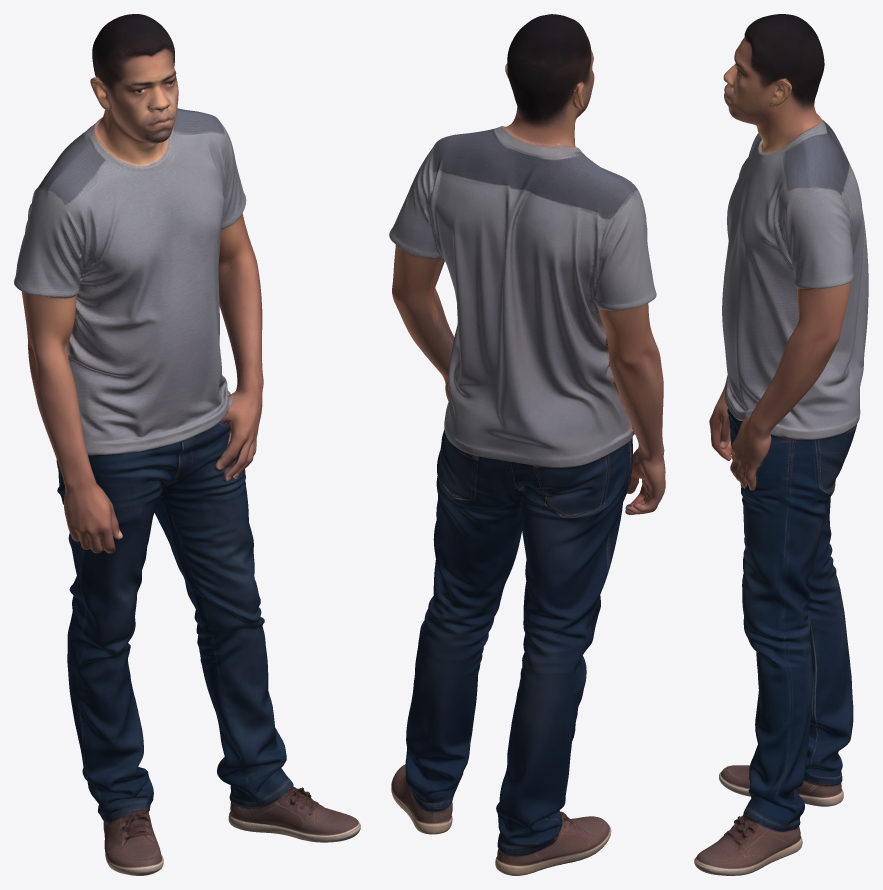
The model's file is corporate_director_male.glb.
The picture shows the model from 3 angles, left to right: view 1: azimuth 30°, elevation 25°; view 2: azimuth 150°, elevation 25°; view 3: azimuth 270°, elevation 25°; orthographic projection. The views are drawn at different scales.
Visible parts, largest first — view 1: Object_5, Object_6, Object_7; view 2: Object_6, Object_5, Object_7; view 3: Object_6, Object_5, Object_7.
Boxes of the visible parts, x1=… form: Object_5: x1=14, y1=14, x2=360, y2=875; Object_6: x1=20, y1=108, x2=286, y2=853; Object_7: x1=29, y1=48, x2=295, y2=870; Object_6: x1=389, y1=105, x2=663, y2=875; Object_5: x1=391, y1=14, x2=665, y2=875; Object_7: x1=401, y1=54, x2=663, y2=860; Object_6: x1=755, y1=83, x2=868, y2=855; Object_5: x1=694, y1=14, x2=844, y2=875; Object_7: x1=736, y1=46, x2=789, y2=866.
Bounding box in the file's own units: 0.7068 × 1.9 × 0.3852.
Materials: 1 (1 with a texture image).
